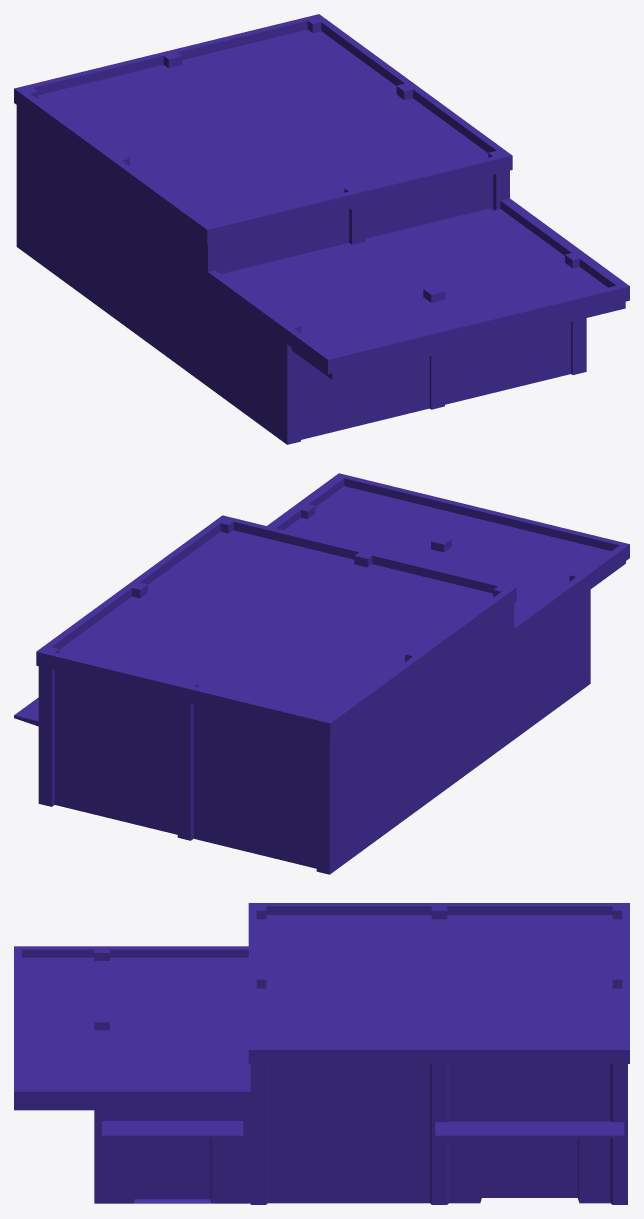
Rendered from ZhongHeCheJian.fbx.
3 views of the same model, one above another, from view 1: azimuth 30°, elevation 25°; view 2: azimuth 150°, elevation 25°; view 3: azimuth 270°, elevation 25° (orthographic). The views are drawn at different scales.
Parts seen in each view (by area): view 1: ZhongHeCheJian; view 2: ZhongHeCheJian; view 3: ZhongHeCheJian.
Part boxes in pixels (box(x1,y1,x2,y2)): ZhongHeCheJian: box(14, 14, 629, 444); ZhongHeCheJian: box(14, 473, 629, 874); ZhongHeCheJian: box(14, 903, 629, 1204).
Bounding box in the file's own units: 12.06 × 5.5 × 19.72.
